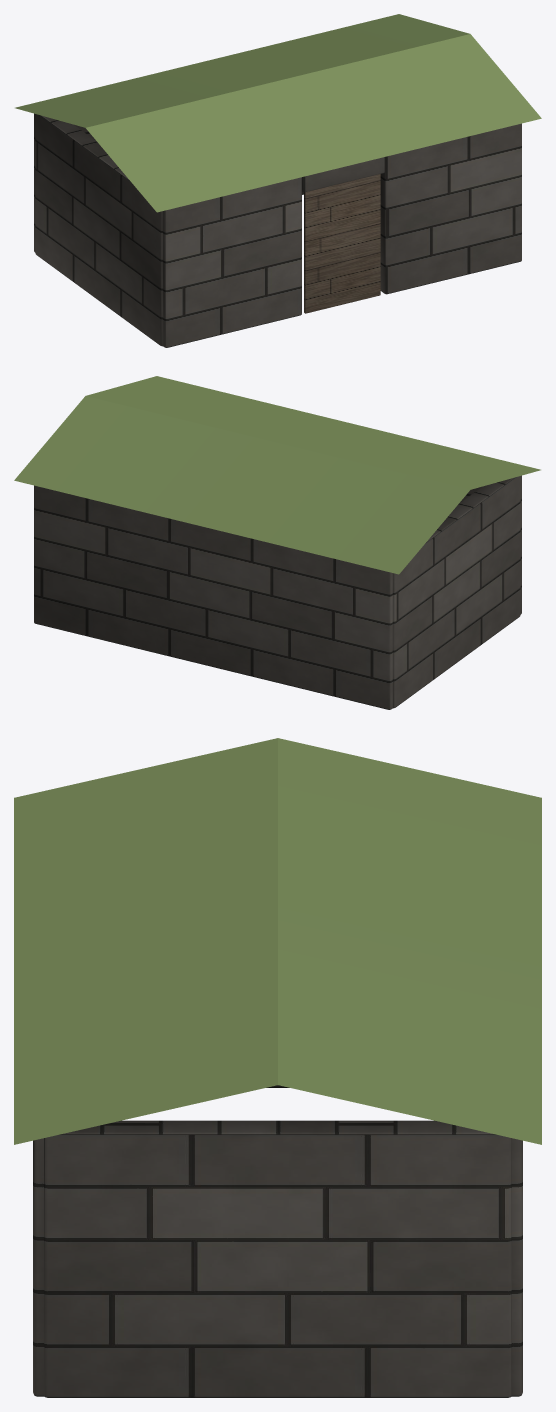
Rendered from stonehut.glb.
The picture shows the model from 3 angles, top to bottom: view 1: azimuth 30°, elevation 25°; view 2: azimuth 150°, elevation 25°; view 3: azimuth 270°, elevation 25°; orthographic projection. The views are drawn at different scales.
Visible parts, largest first — view 1: boat_stone, boat_turf, boat_shed; view 2: boat_stone, boat_turf; view 3: boat_turf, boat_stone.
Boxes of the visible parts, bbox=[...] form: boat_stone: bbox=[34, 113, 521, 347]; boat_turf: bbox=[15, 14, 541, 212]; boat_shed: bbox=[304, 174, 380, 313]; boat_stone: bbox=[34, 475, 521, 709]; boat_turf: bbox=[14, 376, 540, 574]; boat_turf: bbox=[14, 738, 541, 1144]; boat_stone: bbox=[33, 1085, 522, 1397].
Bounding box in the file's own units: 5.6 × 2.45 × 3.6.
Materials: 3 (2 with a texture image).
